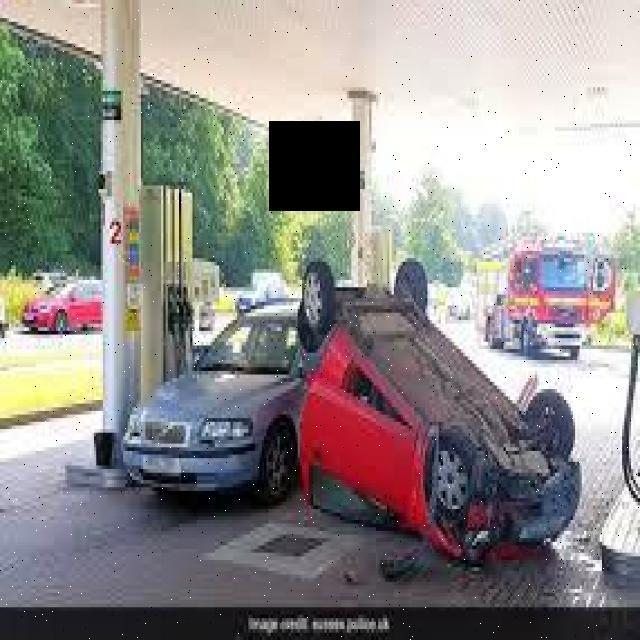severe: (296, 249, 588, 562)
